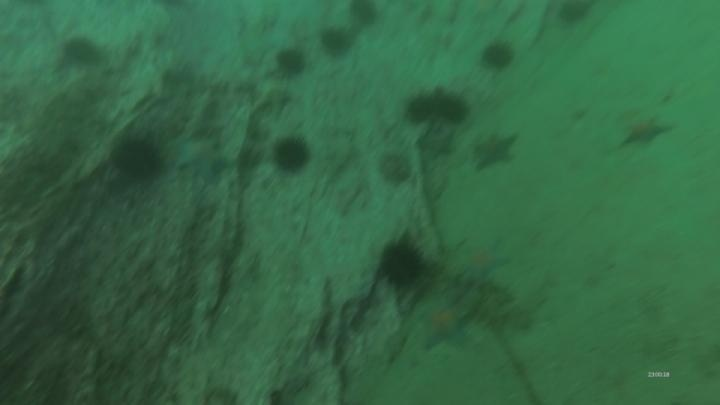echinus: (376, 237, 428, 290), (110, 134, 165, 184), (270, 134, 313, 176), (60, 35, 104, 69), (376, 150, 414, 187), (431, 91, 471, 126), (400, 90, 440, 125), (478, 39, 517, 73), (318, 25, 354, 59), (273, 46, 309, 79), (554, 1, 596, 28), (346, 1, 381, 28)
holothurian: (434, 270, 521, 309)
starfish: (415, 299, 472, 353), (172, 132, 230, 183), (457, 237, 511, 284), (469, 128, 521, 174), (617, 114, 675, 150), (251, 75, 295, 118), (415, 117, 455, 164)
